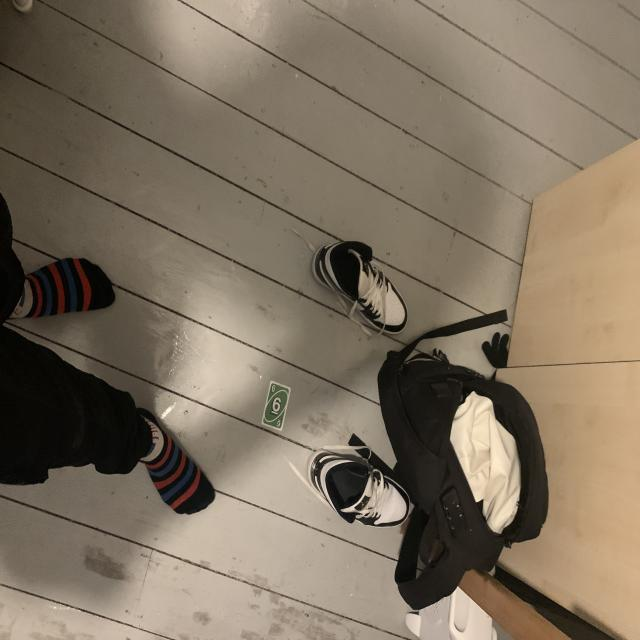lgreen-6: (270, 382, 277, 394)
